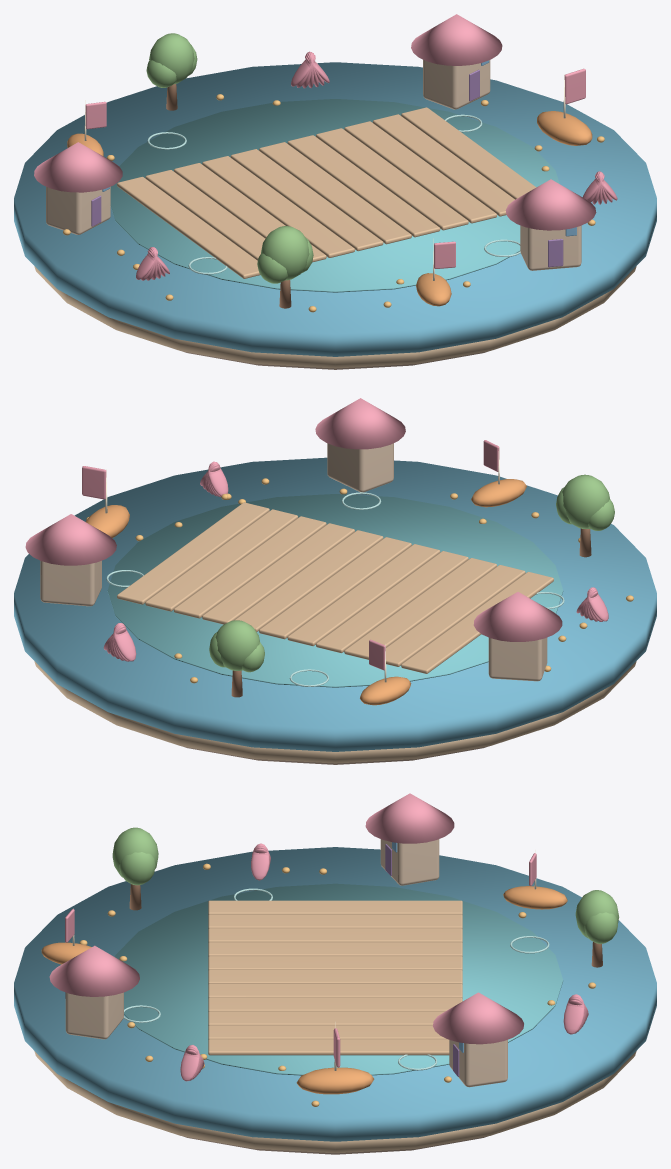
Rendered from world.glb.
3 views of the same model, one above another, from view 1: azimuth 30°, elevation 25°; view 2: azimuth 150°, elevation 25°; view 3: azimuth 270°, elevation 25° (orthographic).
Visible parts, largest first — view 1: Cone, Cone.003, Cone.001, house.001, house.003, house.002, Cube.004, Cube.007, Cube.008, Cube.005, Cube.006, Cube (+14 smaller); view 2: Cone, Cone.003, Cone.001, house.003, house.001, house.002, Cube.004, Cube.010, Cube.005, Cube.008, Cube.009, Cube.003 (+14 smaller); view 3: Cone, Cone.003, Cone.001, house.001, house.003, house.002, Cube.010, Cube, Cube.001, Cube.002, Cube.006, Cube.007 (+14 smaller).
Part boxes in pixels (bbox=[...]): Cone: bbox=[14, 62, 656, 356]; Cone.003: bbox=[110, 99, 559, 292]; Cone.001: bbox=[34, 266, 636, 368]; house.001: bbox=[411, 14, 502, 109]; house.003: bbox=[505, 179, 596, 270]; house.002: bbox=[34, 142, 122, 234]; Cube.004: bbox=[230, 149, 383, 251]; Cube.007: bbox=[316, 128, 468, 230]; Cube.008: bbox=[344, 121, 496, 223]; Cube.005: bbox=[259, 142, 411, 244]; Cube.006: bbox=[287, 135, 440, 237]; Cube: bbox=[117, 176, 260, 278]; Cone: bbox=[14, 457, 656, 751]; Cone.003: bbox=[107, 494, 563, 687]; Cone.001: bbox=[34, 661, 636, 763]; house.003: bbox=[315, 398, 405, 492]; house.001: bbox=[25, 514, 116, 606]; house.002: bbox=[473, 592, 562, 681]; Cube.004: bbox=[287, 544, 440, 646]; Cube.010: bbox=[117, 502, 269, 604]; Cube.005: bbox=[259, 537, 411, 639]; Cube.008: bbox=[174, 516, 326, 618]; Cube.009: bbox=[145, 509, 298, 611]; Cube.003: bbox=[316, 551, 468, 653]; Cone: bbox=[14, 847, 656, 1141]; Cone.003: bbox=[115, 883, 563, 1075]; Cone.001: bbox=[34, 1051, 636, 1153]; house.001: bbox=[433, 992, 523, 1087]; house.003: bbox=[49, 945, 139, 1039]; house.002: bbox=[365, 793, 454, 885]; Cube.010: bbox=[208, 1039, 449, 1055]; Cube: bbox=[208, 900, 462, 914]; Cube.001: bbox=[208, 914, 462, 928]; Cube.002: bbox=[208, 928, 462, 942]; Cube.006: bbox=[208, 983, 462, 998]; Cube.007: bbox=[208, 997, 462, 1011].
Bounding box in the file's own units: 9.6 × 2.16 × 9.6.
